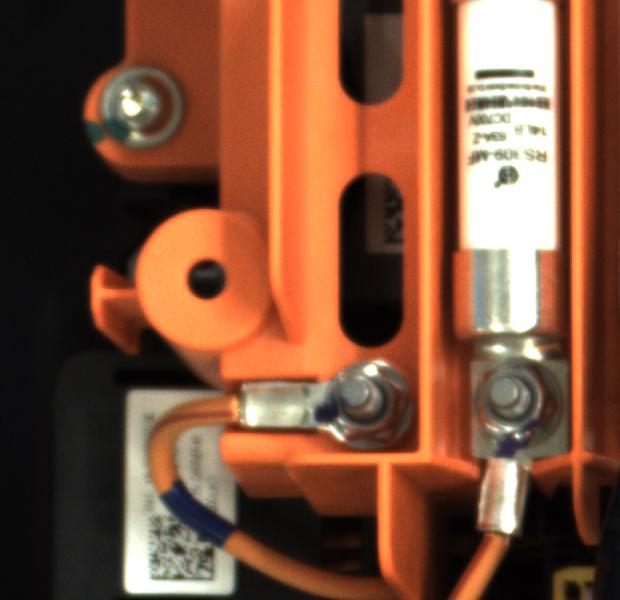screw_m: (88, 64, 194, 156)
screw_s: (462, 360, 572, 450), (313, 356, 412, 441)
